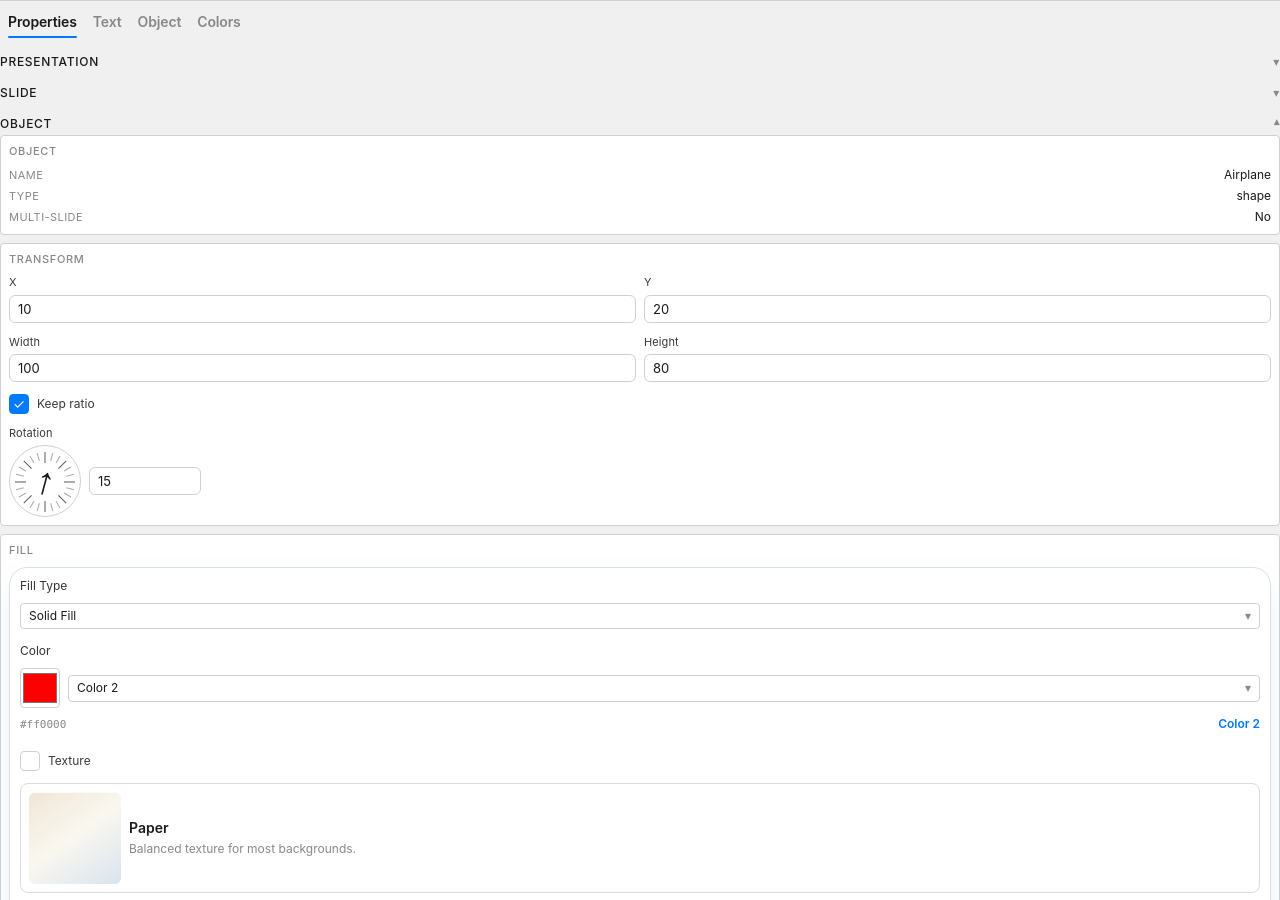
Test case: PropertiesPanel › shows text styles in the text tab
The width and height of the screenshot is (1280, 900).
What coordinates should you click on to do the following:
click the tab "Text"
I would click on:
 (107, 24)
Its box is [85,5,130,42].
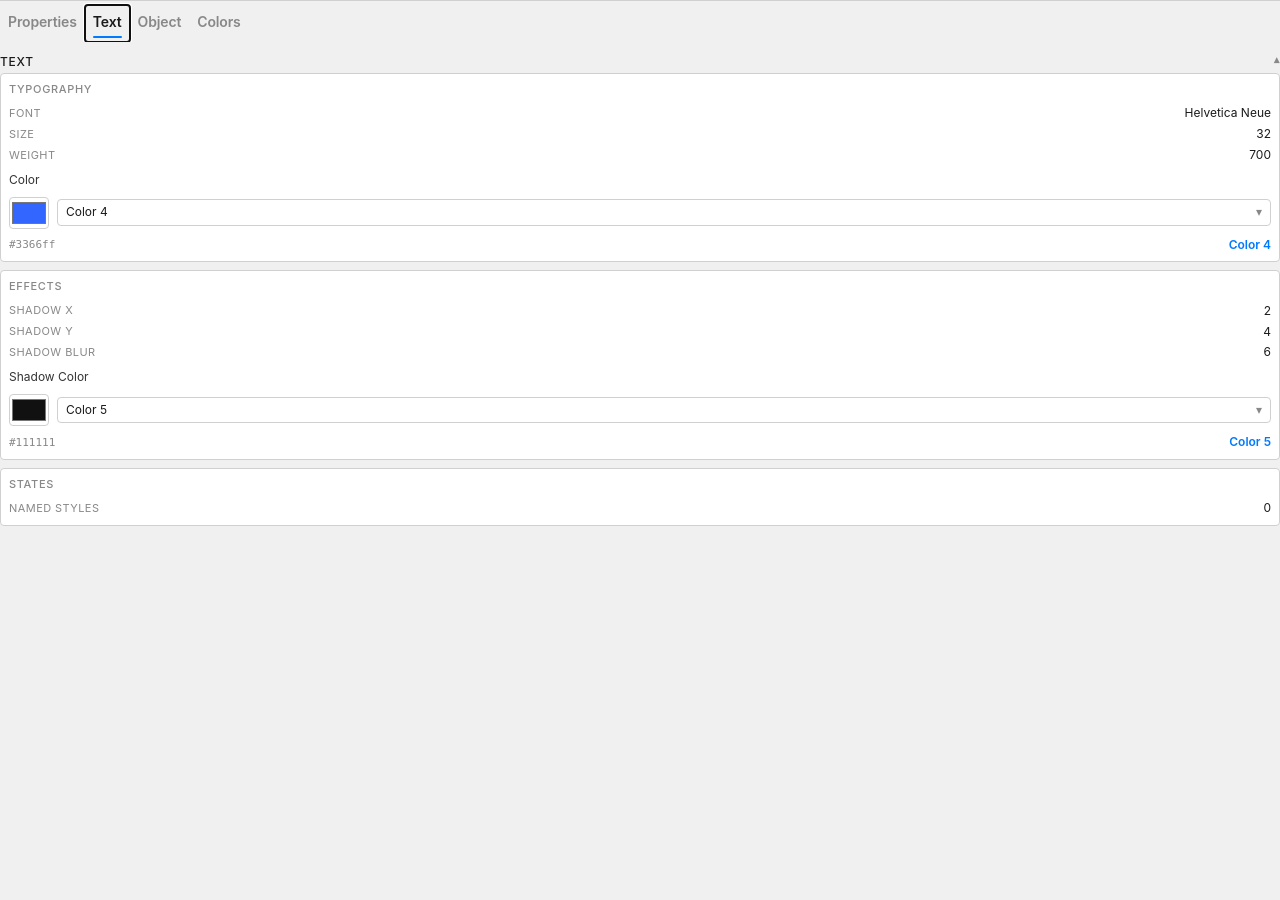
Now the text "Typography" is shown, box [9,82,92,96]
Now the text "Effects" is shown, box [9,279,62,293]
